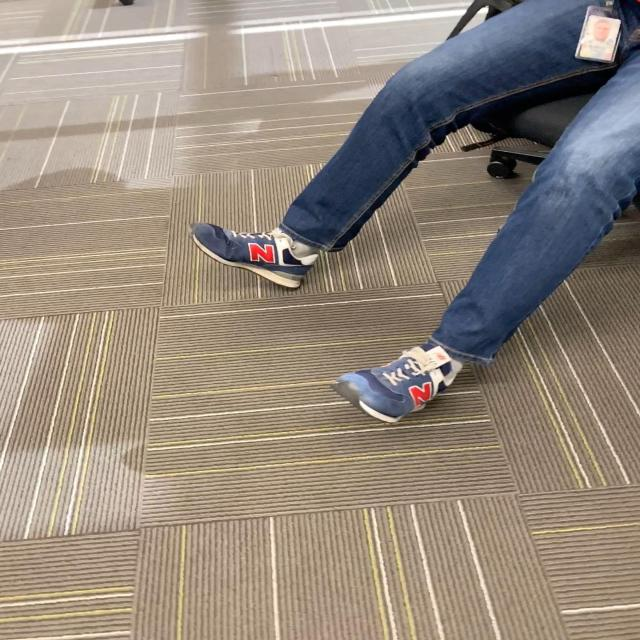shoe: (340, 346, 465, 424), (189, 223, 324, 293)
